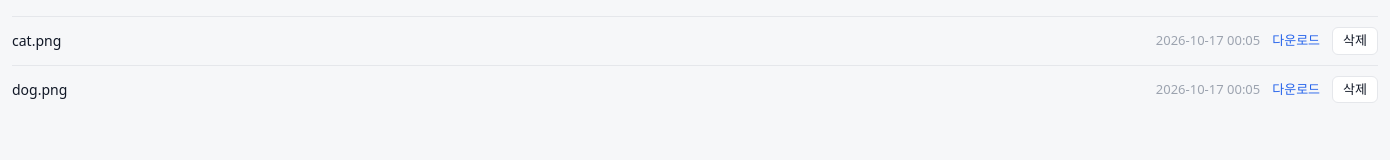
AttachmentList › delete removes item from list immediately
Click the button with aria-label "cat.png 삭제". click: (1355, 41)
box: [1332,27,1378,54]
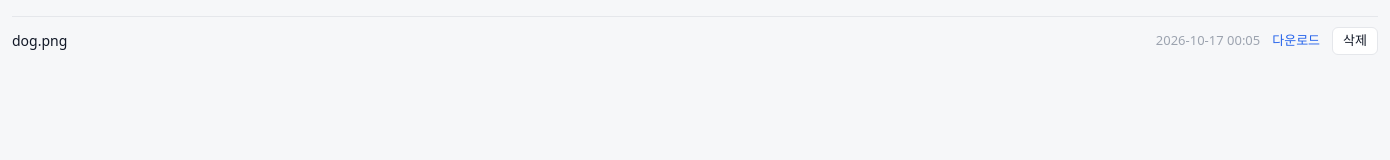
Expected: the text "dog.png" is shown, [12,31,67,50]
Now the text "cat.png" is gone
